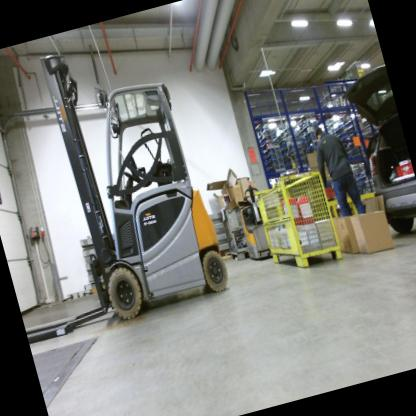forklift: (0, 12, 247, 348)
pallet_truck: (230, 179, 283, 263)
stillage: (250, 159, 347, 275), (215, 196, 266, 271)
